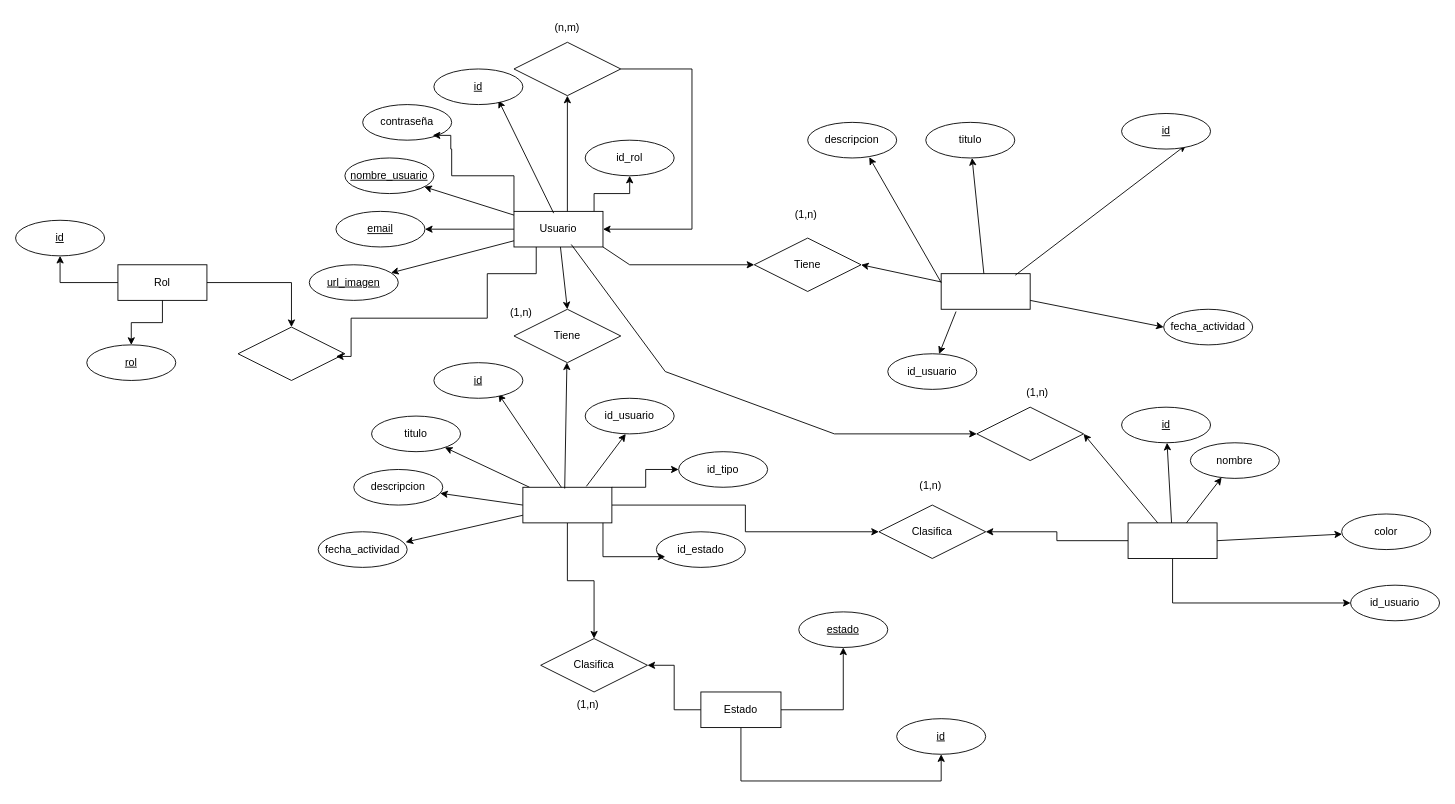
Image size: 1455x804. Some labels were removed from this diagram. Here are the shapes that lost their labels. From the top down, the centre of each, then its label:
At (x=567, y=68): "Hace".
At (x=985, y=291): "diario".
At (x=291, y=353): "Asigna".
At (x=1030, y=433): "Crea".
At (x=567, y=504): "Tarea".
At (x=1172, y=540): "Tipo".
